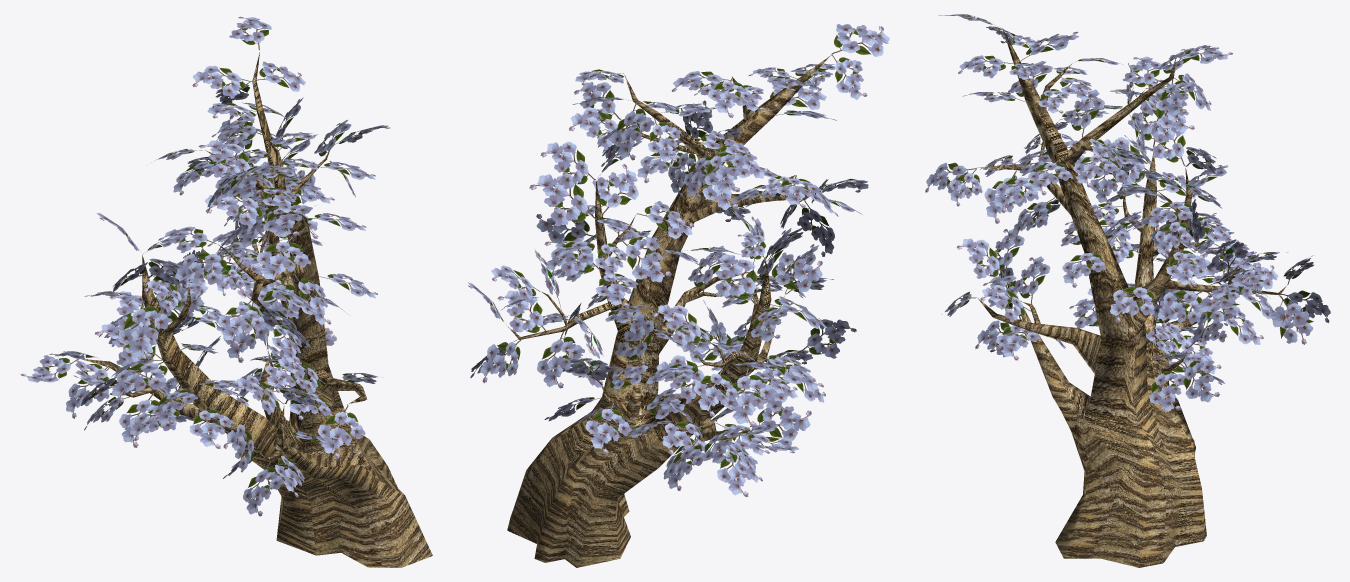
File: tree1.fbx
3 renders of one model, left to right at view 1: azimuth 30°, elevation 25°; view 2: azimuth 150°, elevation 25°; view 3: azimuth 270°, elevation 25°, orthographic. The views are drawn at different scales.
Parts seen in each view (by area): view 1: newLeaves, trunk; view 2: newLeaves, trunk; view 3: newLeaves, trunk.
Boxes of the visible parts, x1,y1,x2,y2 form: newLeaves: [20, 16, 390, 516]; trunk: [81, 52, 432, 567]; newLeaves: [468, 24, 889, 497]; trunk: [507, 55, 830, 567]; newLeaves: [925, 14, 1330, 411]; trunk: [978, 29, 1286, 567].
Size of the model in its own units: 27.57 by 38.12 by 31.23.
